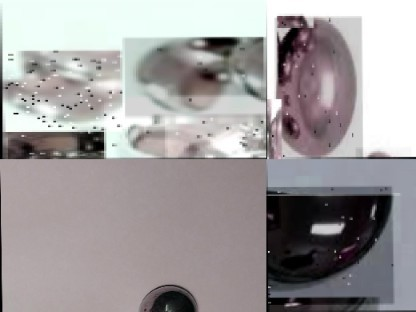ironball: (266, 186, 393, 304), (274, 16, 362, 158), (124, 37, 266, 122), (1, 50, 122, 131), (103, 102, 266, 158), (2, 101, 101, 159), (76, 126, 165, 158), (140, 279, 200, 310), (266, 99, 281, 159), (355, 147, 411, 158)
